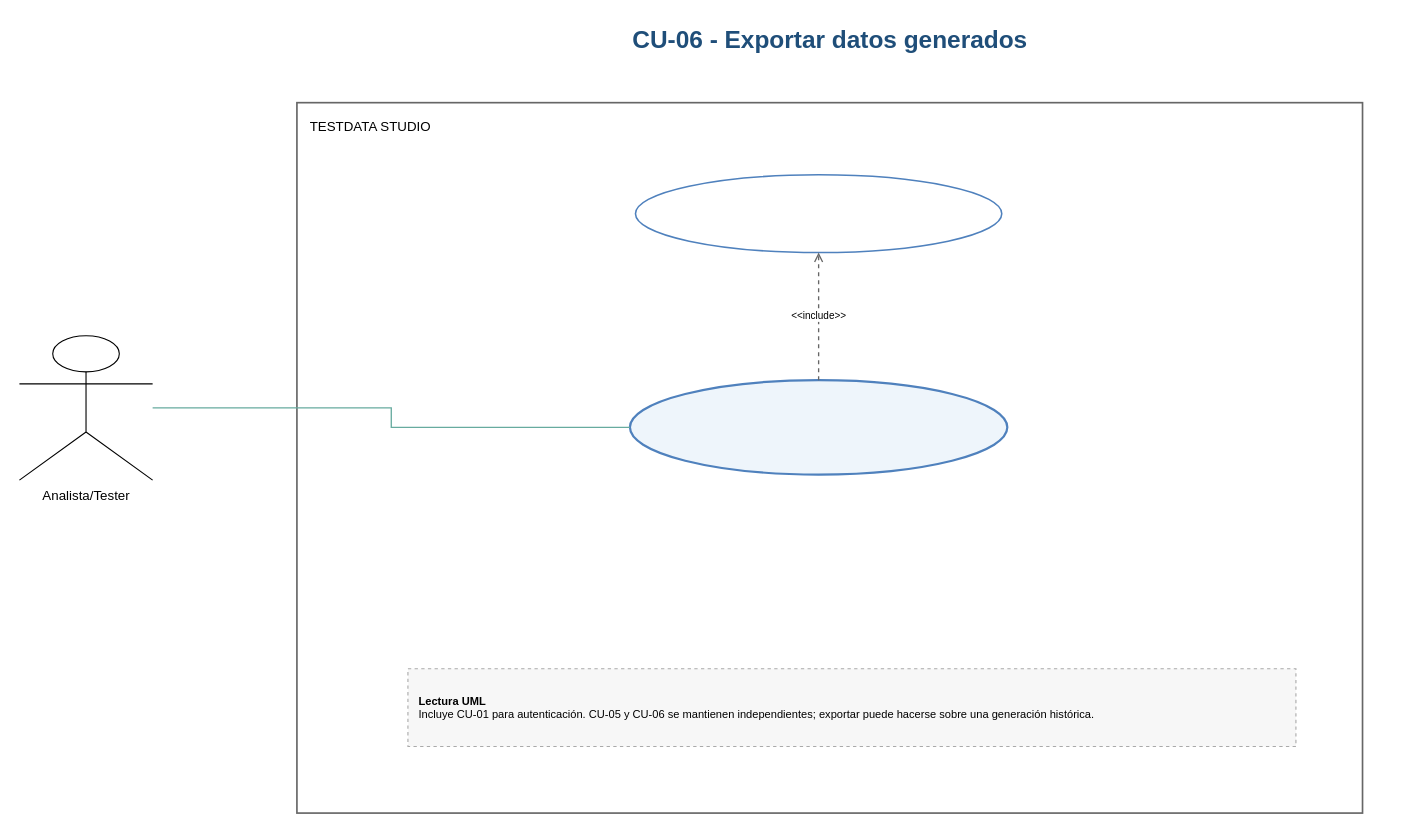
Image size: 1404x833. Some labels were removed from this diagram. Each missing label, with the box of its shape:
CU-01 Iniciar sesión: (634, 173, 1002, 253)
CU-06 Exportar datos generados: (628, 379, 1008, 475)
